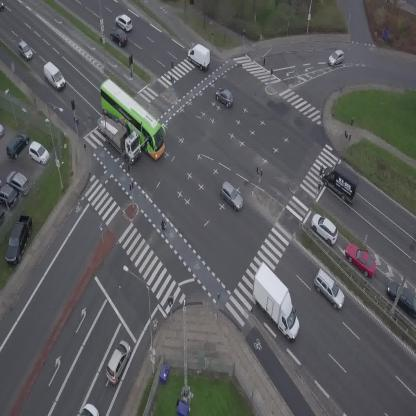bicycle: (158, 218, 169, 237)
bus: (87, 77, 176, 162)
car: (308, 266, 349, 312), (340, 238, 382, 281), (101, 338, 135, 386), (306, 210, 343, 247), (215, 180, 248, 212), (106, 25, 131, 50), (212, 85, 238, 109), (112, 11, 136, 34), (14, 39, 35, 63), (325, 48, 348, 68), (78, 404, 99, 416)
lorry: (237, 261, 317, 343), (87, 104, 150, 165), (316, 160, 366, 206), (183, 40, 216, 72), (39, 60, 69, 91)
